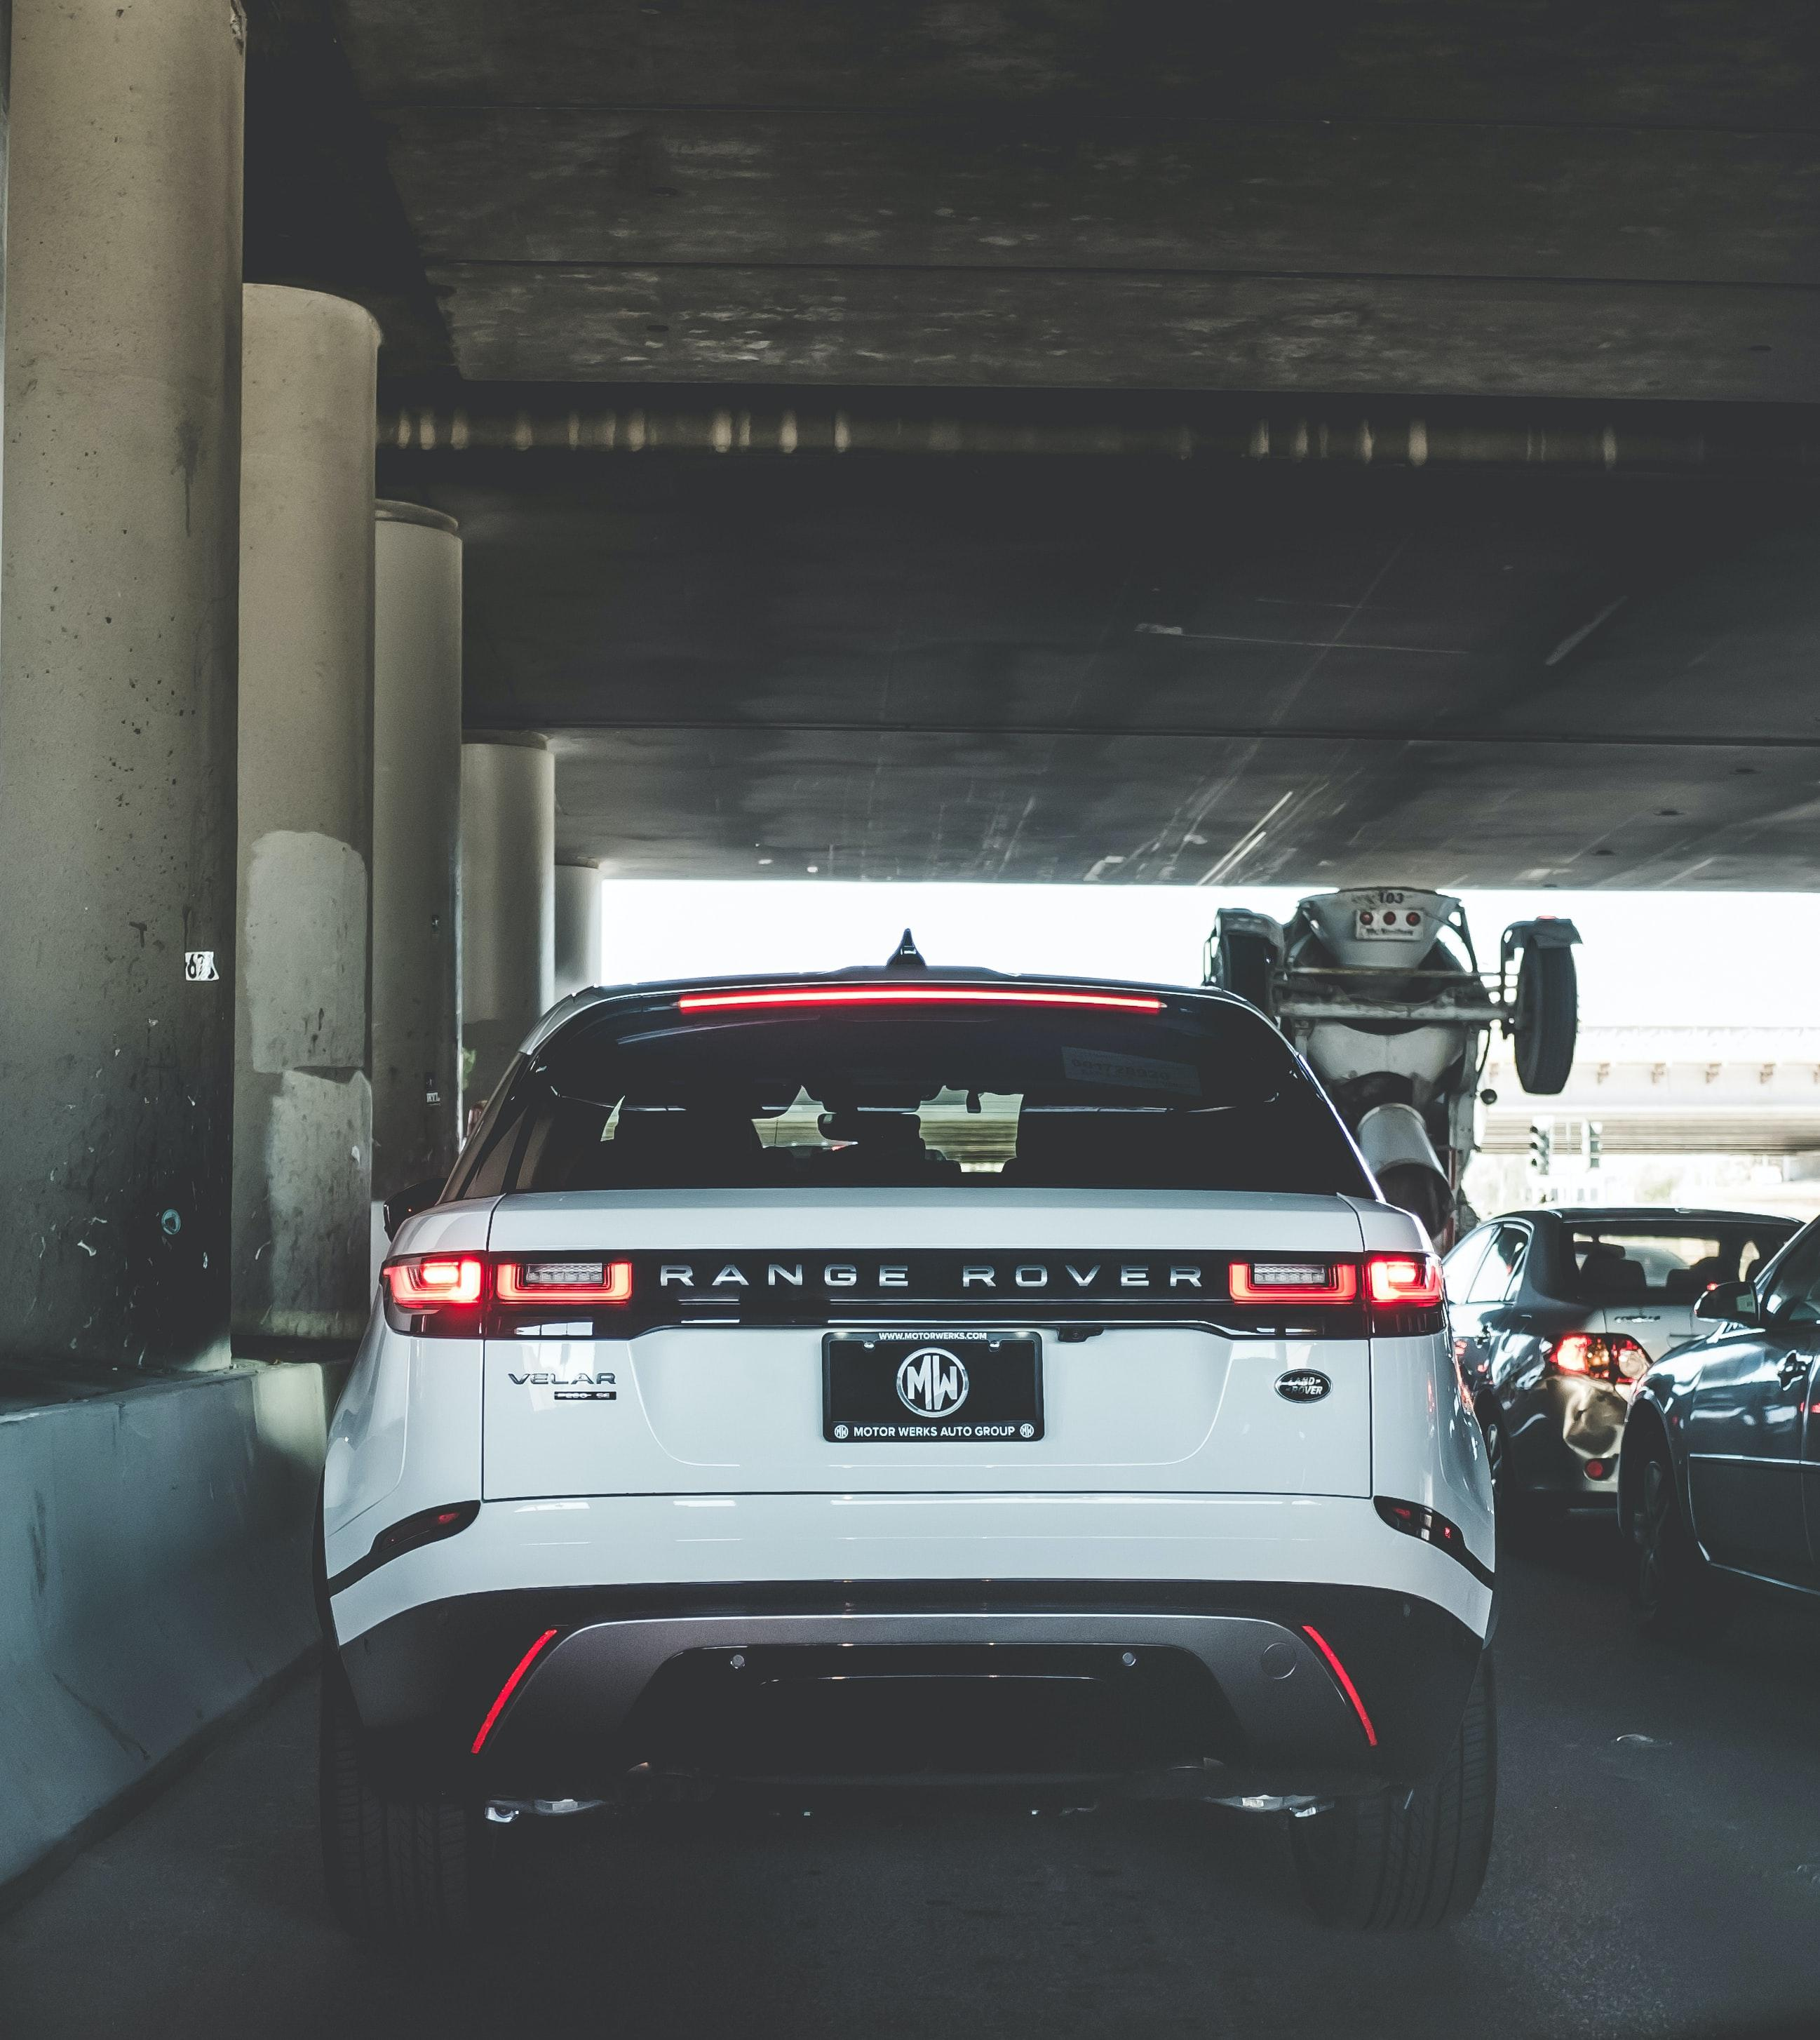range rover: (632, 1239, 1228, 1321)
